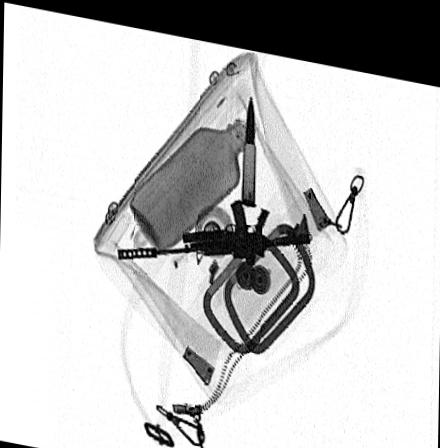Bullet: (243, 85, 256, 196)
Gun: (115, 188, 310, 258)
